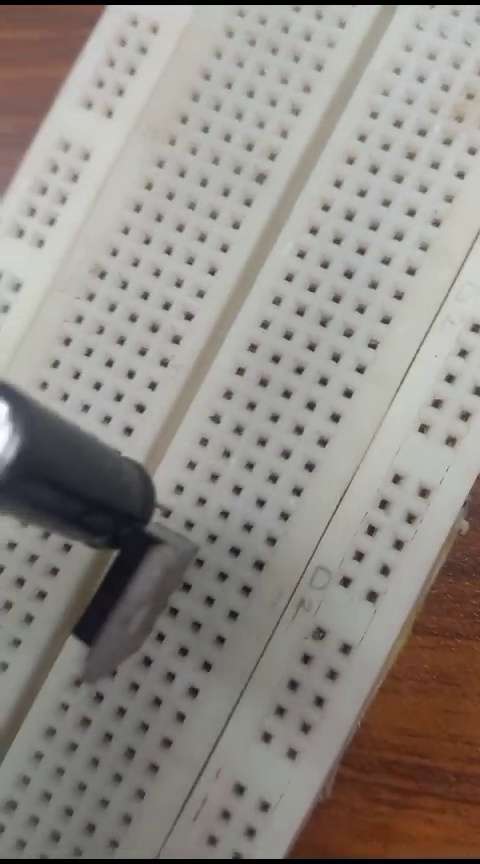capacitor: (2, 373, 156, 547)
voltage regulator: (71, 527, 199, 673)
